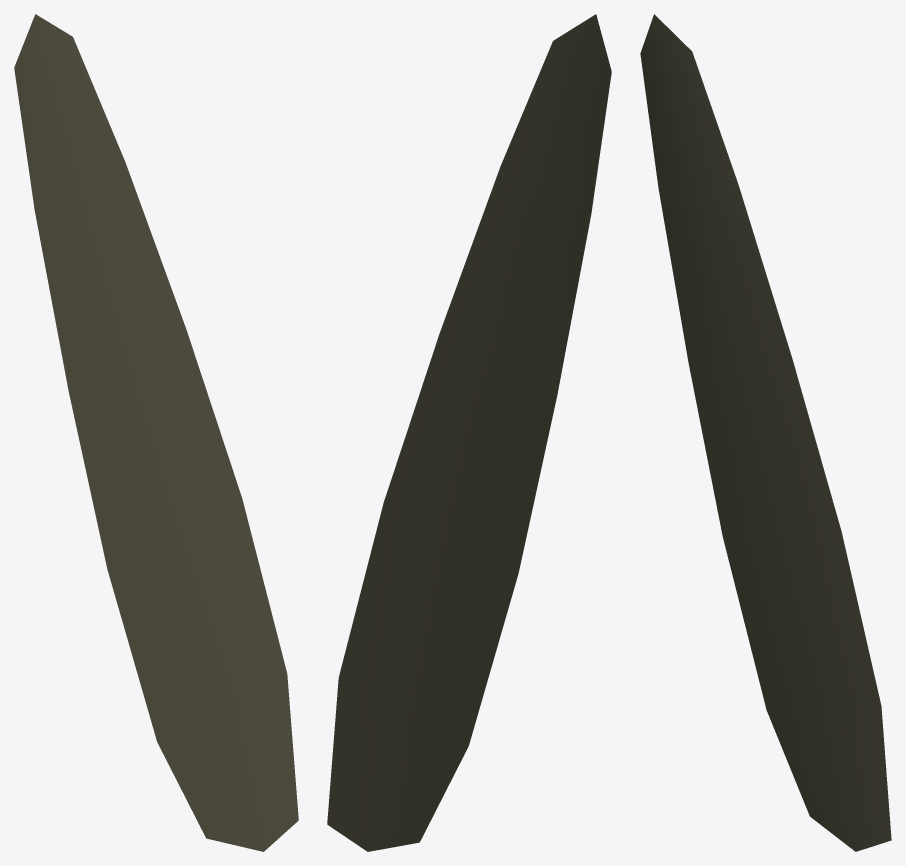
File: finch_feather_flight_primary_009.obj
3 renders of one model, left to right at view 1: azimuth 30°, elevation 25°; view 2: azimuth 150°, elevation 25°; view 3: azimuth 330°, elevation 25°, orthographic. The views are drawn at different scales.
Parts seen in each view (by area): view 1: feather_flight_primary_009; view 2: feather_flight_primary_009; view 3: feather_flight_primary_009.
Boxes of the visible parts, <box> form: feather_flight_primary_009: <box>14,14,298,851</box>; feather_flight_primary_009: <box>327,14,611,851</box>; feather_flight_primary_009: <box>640,14,891,851</box>.
Bounding box in the file's own units: 0.016 × 0.048 × 0.000273.
